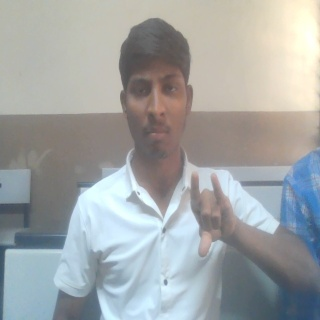Face: (117, 17, 197, 162)
I Love You: (184, 169, 238, 262)
